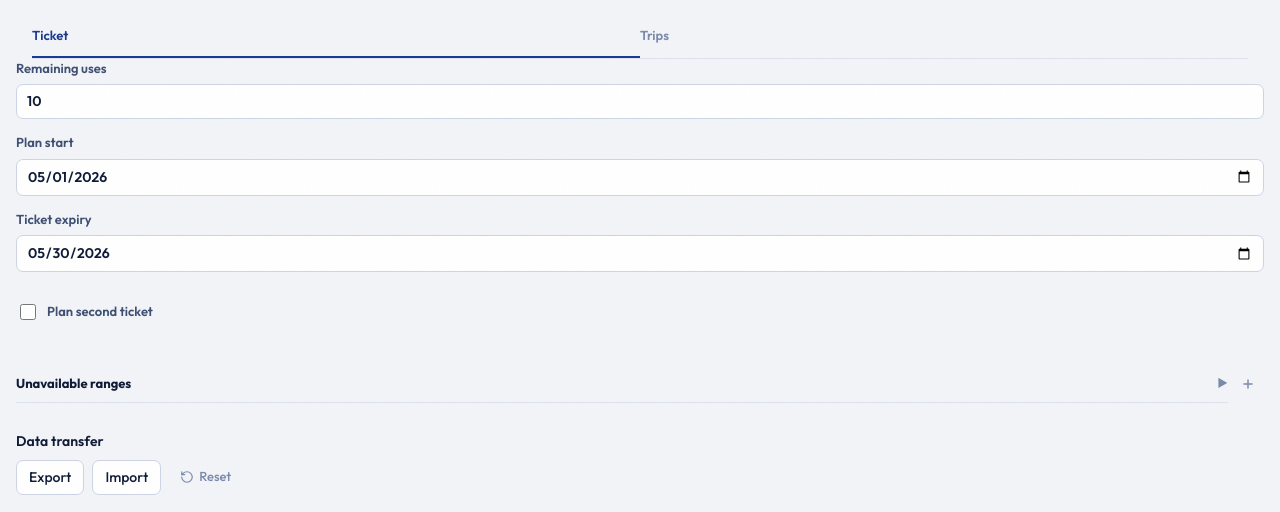
Test: SetupPanel › shows weekday groups on the Trips tab
The width and height of the screenshot is (1280, 512).
Click the tab "Trips" at (654, 35), box [640,16,1248,58]
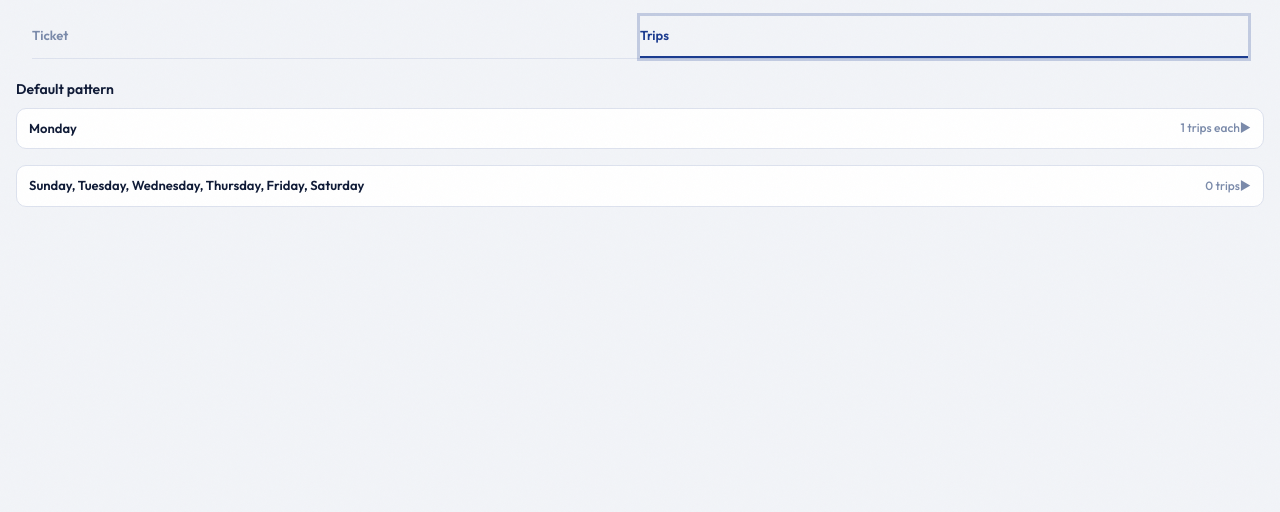
Expected: the button "Monday 1 trips each ▶" is shown, [16,108,1264,149]
Expected: the 2nd button is shown, [16,165,1264,206]
